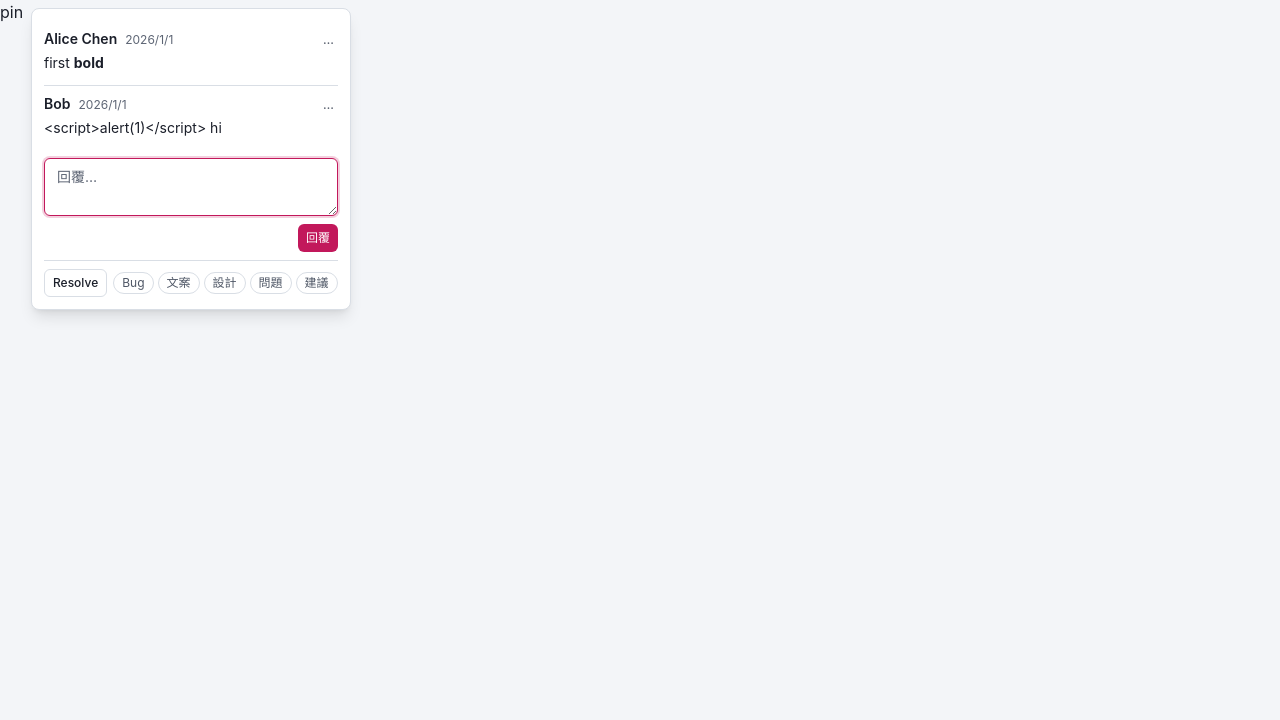
ThreadPopover › editing a comment submits the new body; Esc cancels the edit only
Click the button named "留言選項" at (329, 40), box [319,32,338,48]
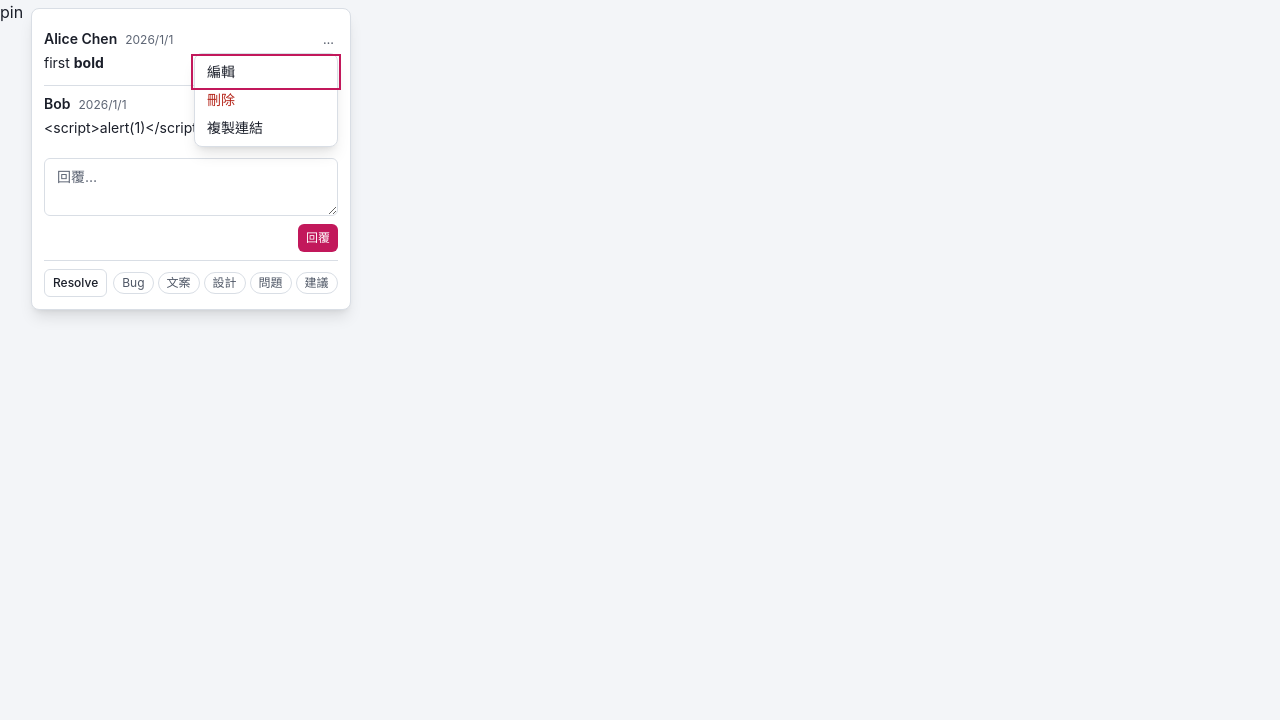
Click the menu item "編輯" at (266, 72), box [195,58,337,86]
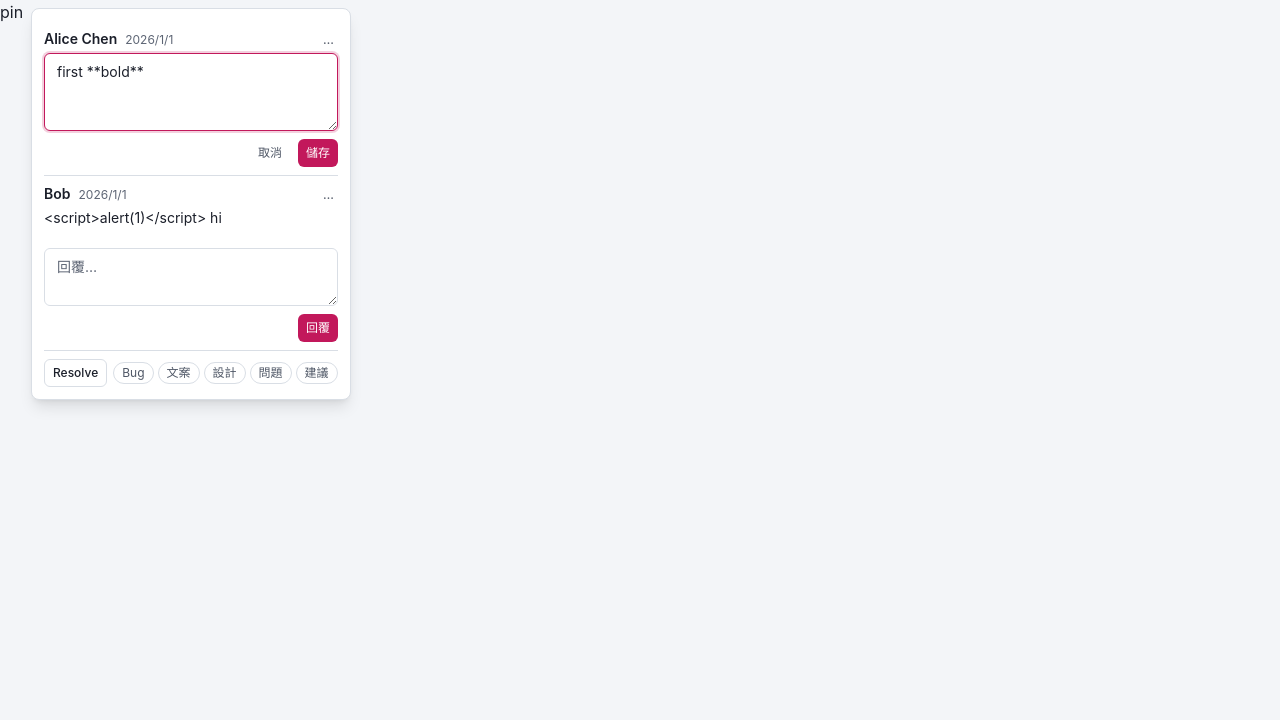
Replace the text in the text box named "編輯留言" with "edited" at (191, 92), box [44,53,338,131]
Click the button "儲存" at (318, 153), box [298,139,338,167]
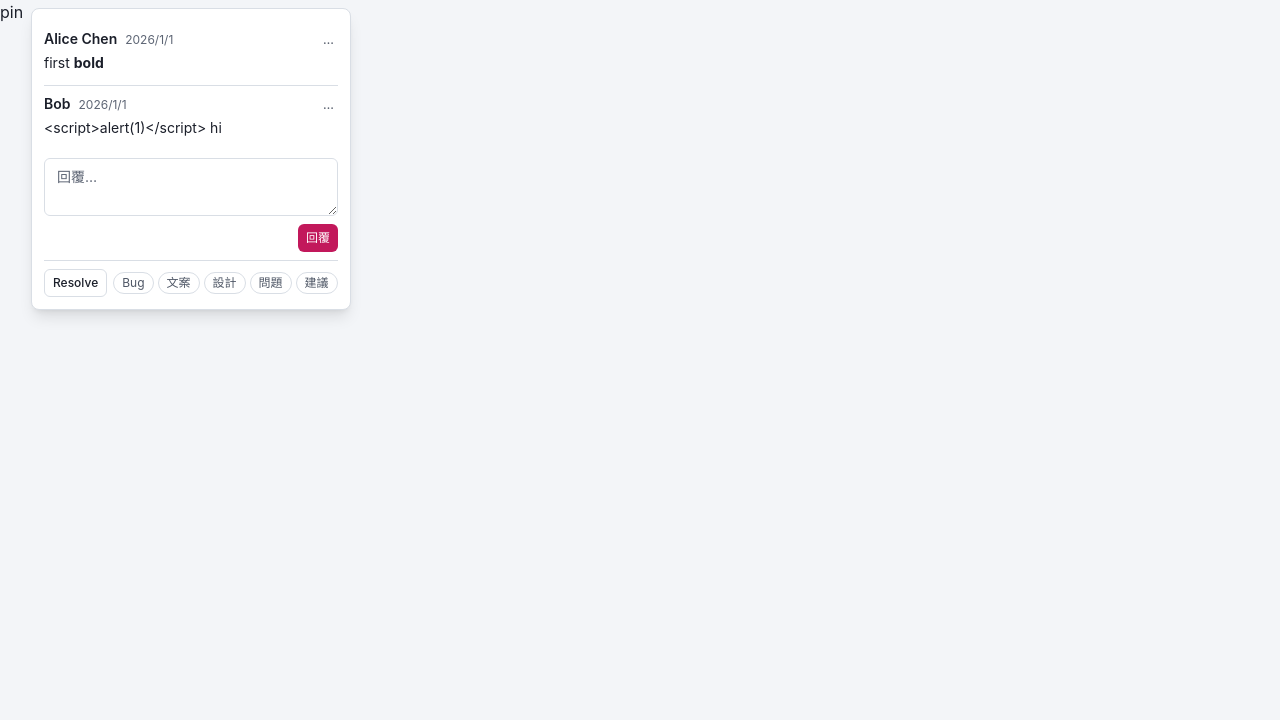
Expected: the text box labelled "編輯留言" is gone
Click the button named "留言選項" at (329, 40), box [319,32,338,48]
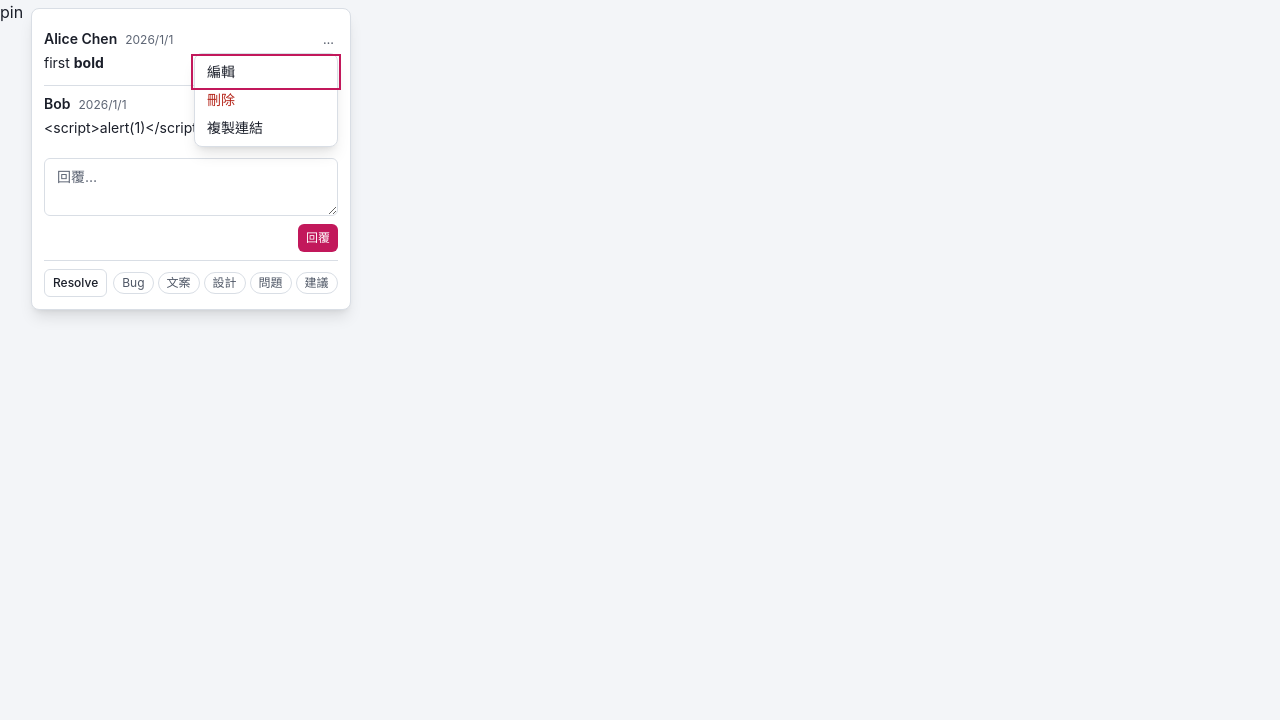
Click the menu item "編輯" at (266, 72), box [195,58,337,86]
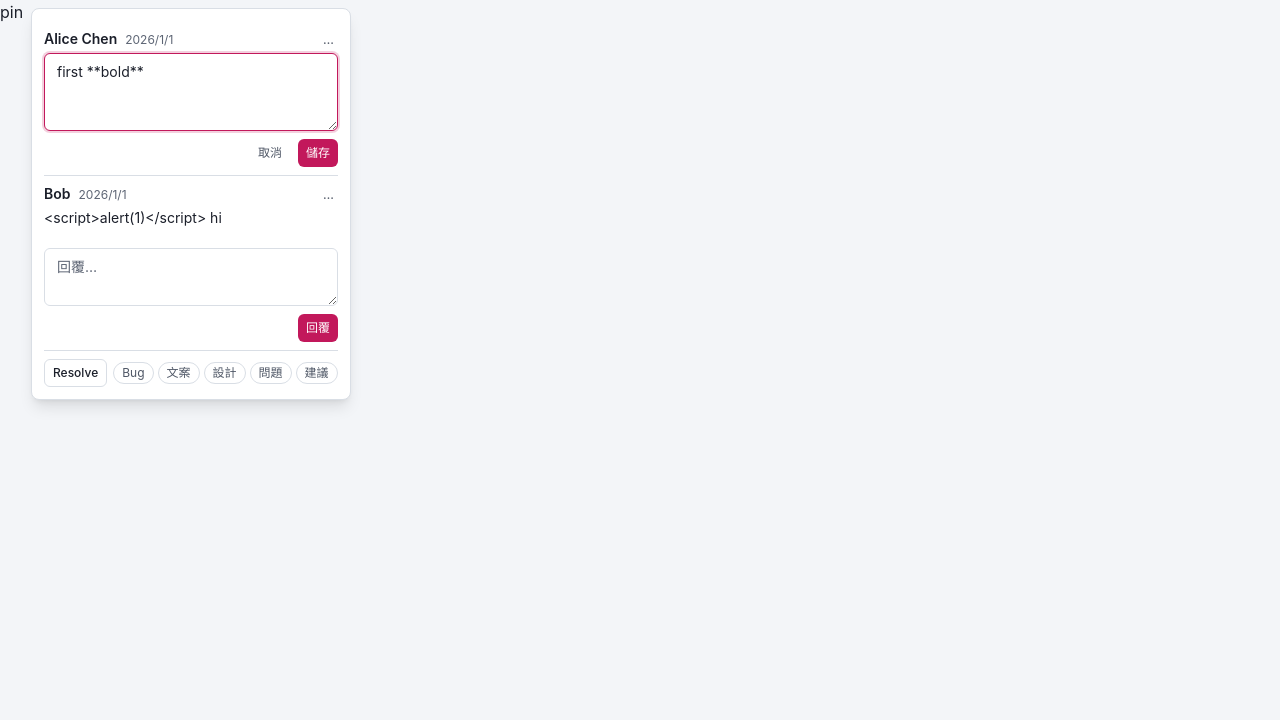
Press Escape
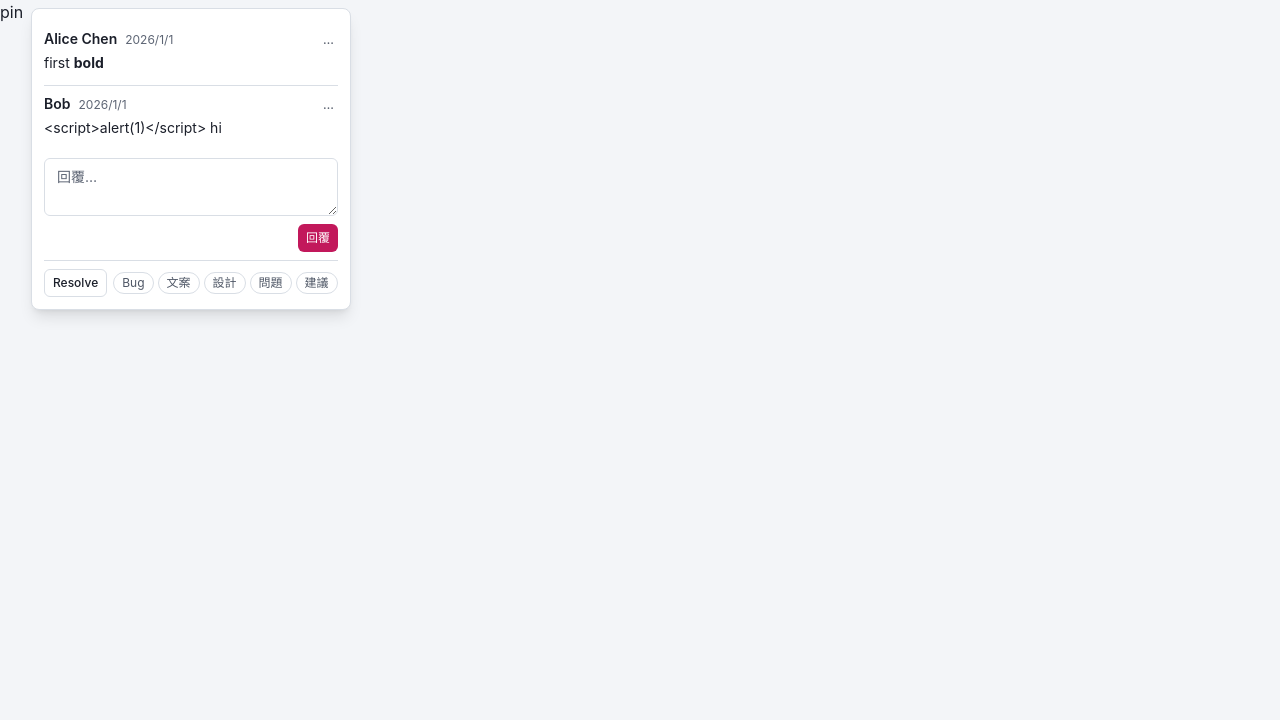
Expected: the text box labelled "編輯留言" is gone
